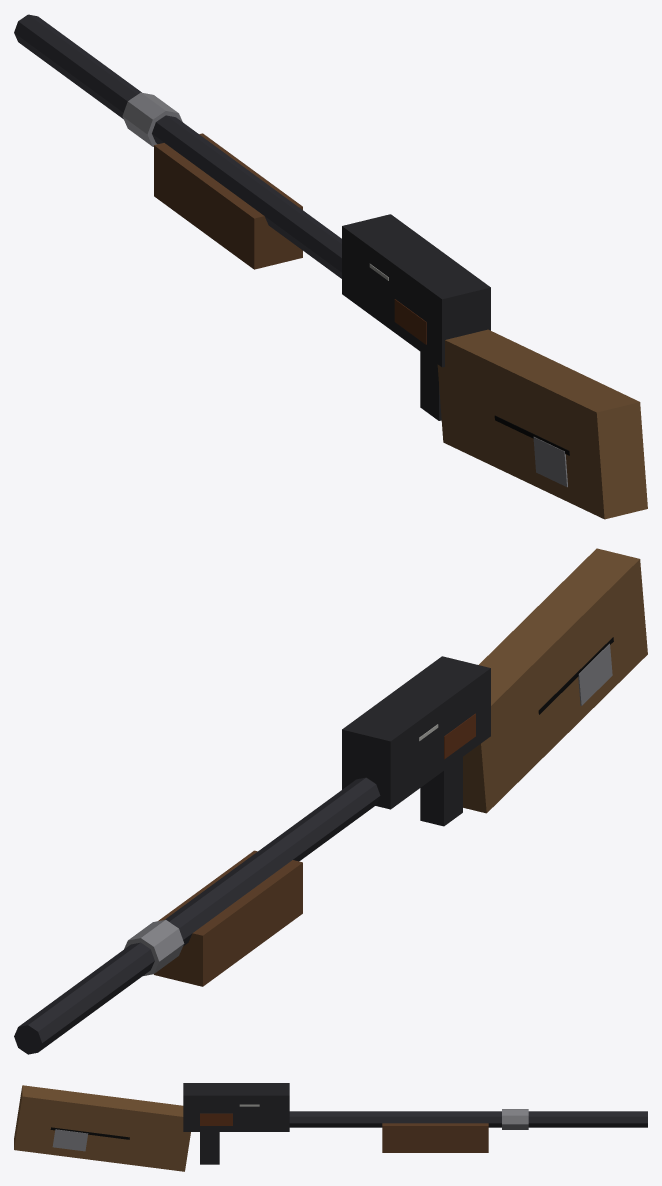
File: shotgun_w2.glb
3 renders of one model, top to bottom at view 1: azimuth 30°, elevation 25°; view 2: azimuth 150°, elevation 25°; view 3: azimuth 270°, elevation 25°, orthographic. The views are drawn at different scales.
Parts seen in each view (by area): view 1: shotgun_w2; view 2: shotgun_w2; view 3: shotgun_w2.
Boxes of the visible parts, x1=… form: shotgun_w2: x1=14, y1=14, x2=647, y2=519; shotgun_w2: x1=14, y1=548, x2=647, y2=1054; shotgun_w2: x1=14, y1=1083, x2=647, y2=1171.
Bounding box in the file's own units: 0.046 × 0.1277 × 0.955.
